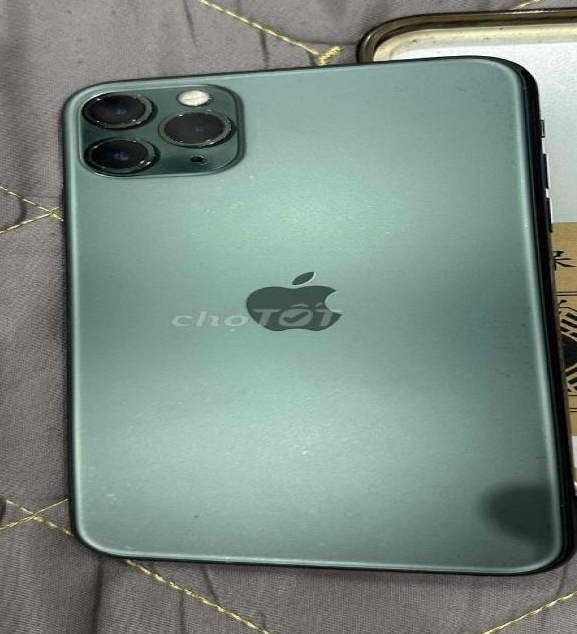scratch: (71, 459, 445, 579)
